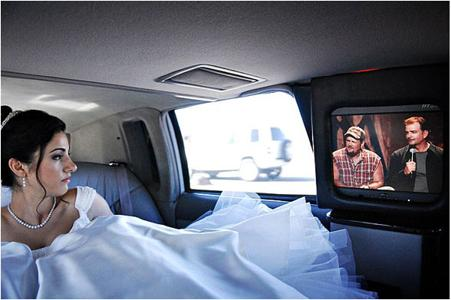person: (1, 104, 348, 299)
